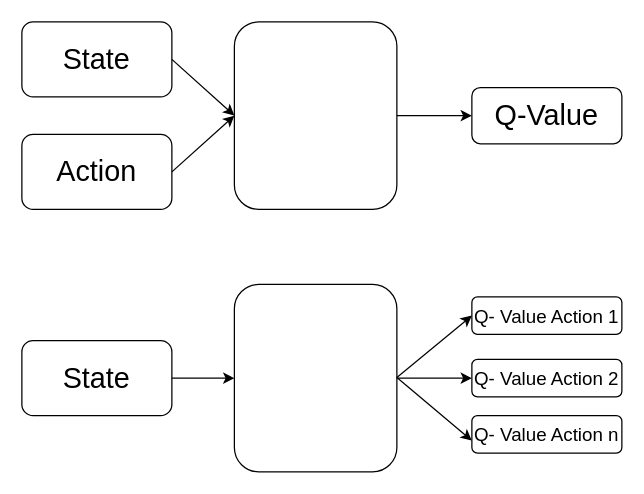
Image size: 644x494. Some labels were removed from this diagram. The shapes that lost their labels are listed below. From the top down, each one's centre as x and y in pixels, then its label:
At (315,115): "Q-Table".
At (315,377): "Deep Q Neural Network".
